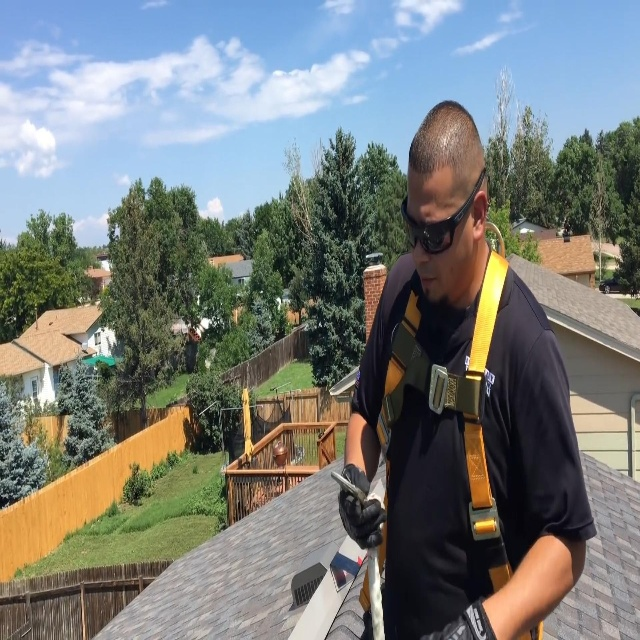Arnes_seguridad: (346, 233, 546, 640)
